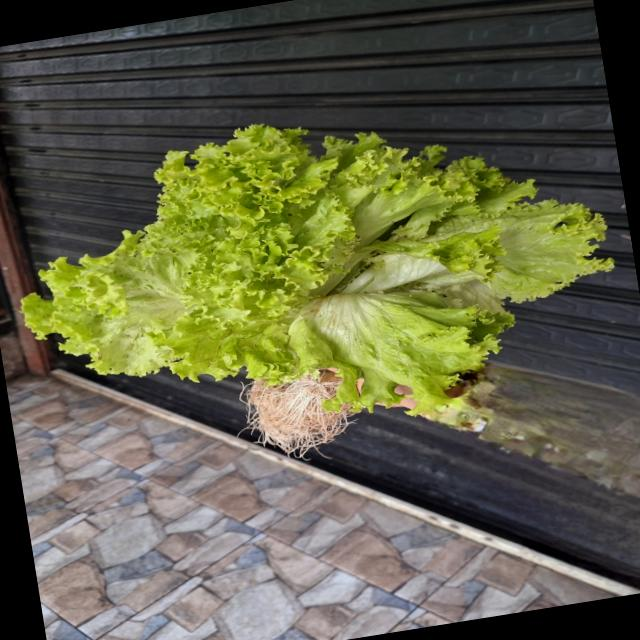lista_para_cosechar: (23, 125, 613, 456)
